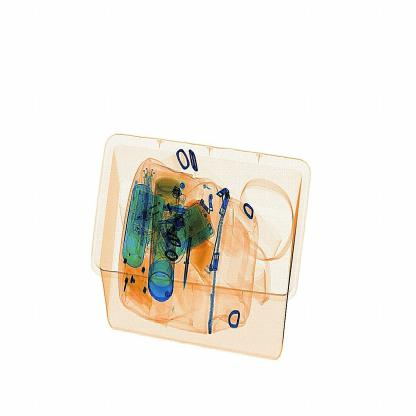gun: (176, 216, 200, 292)
